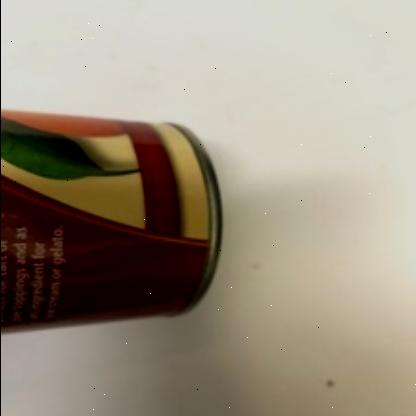Can: (0, 112, 222, 326)
